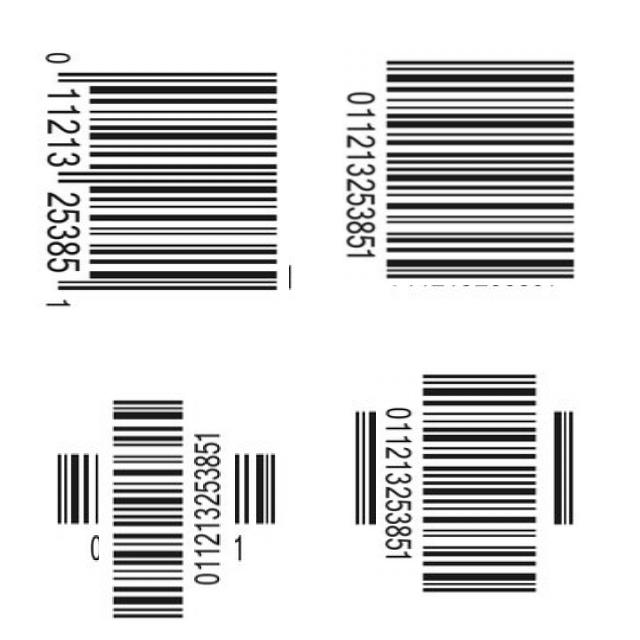Barkod: (28, 44, 292, 308), (344, 48, 584, 288), (362, 382, 566, 585), (76, 416, 259, 600)
